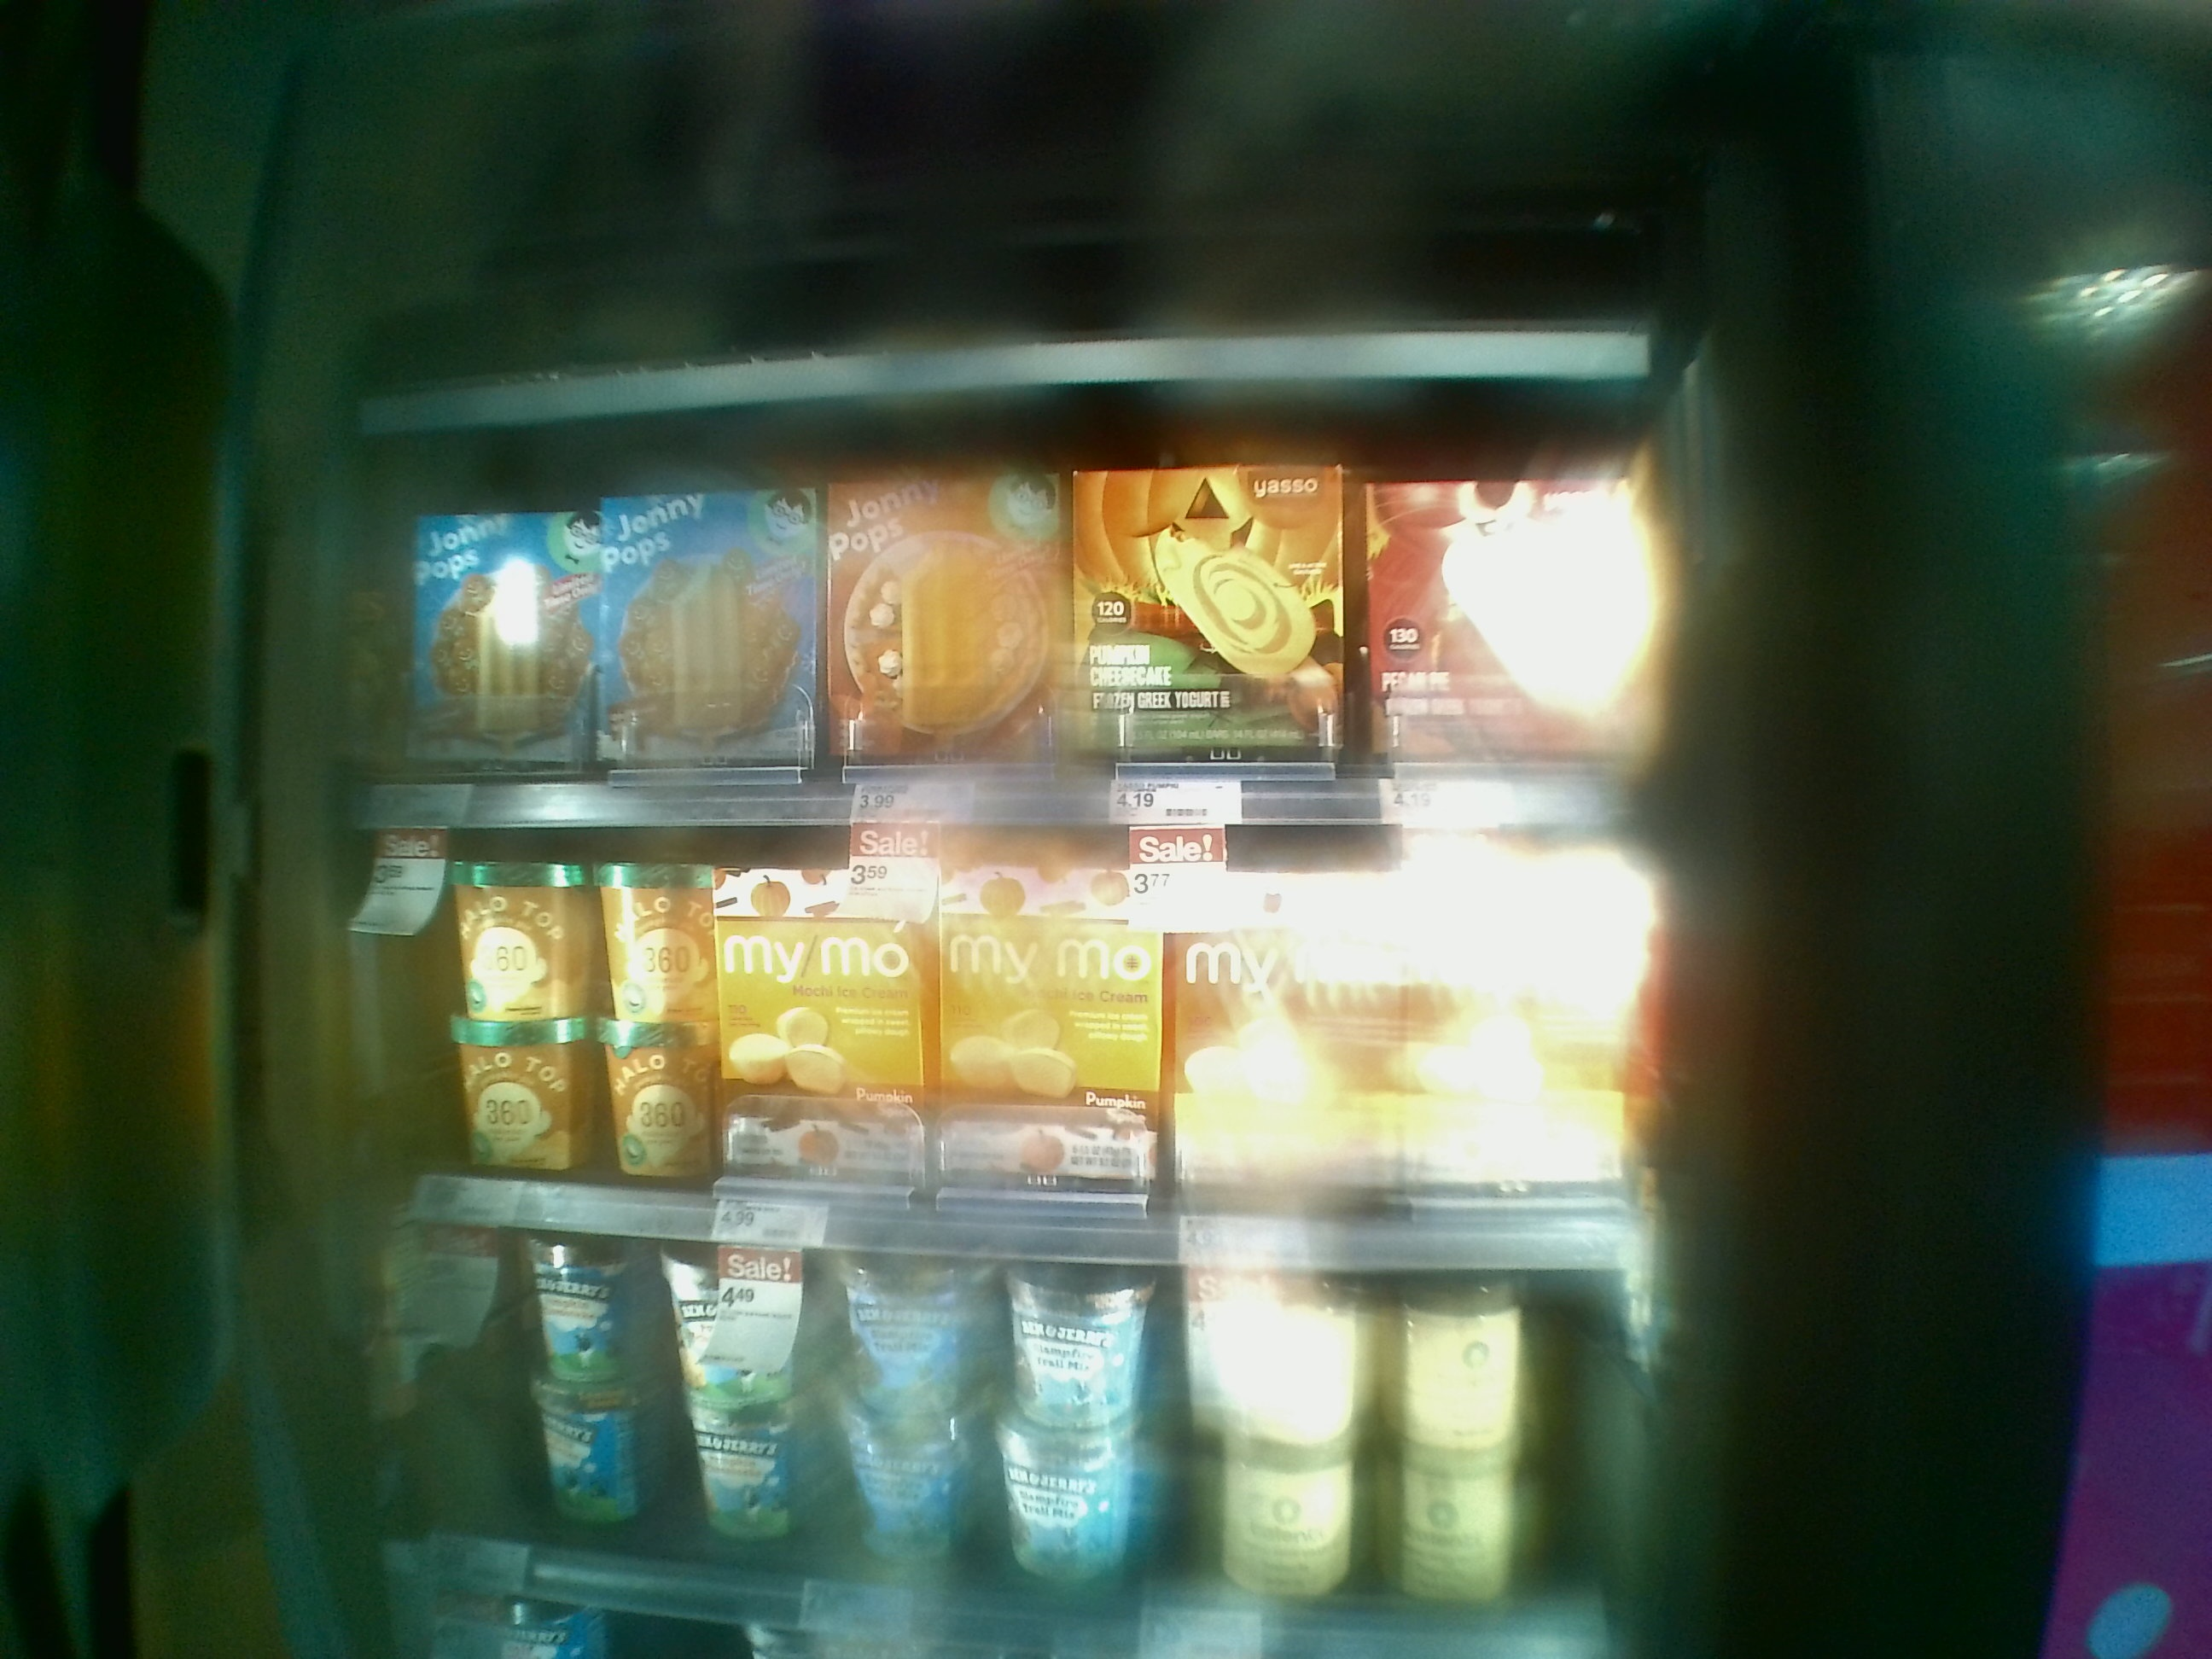shelf: (317, 796, 1667, 1270), (334, 376, 1672, 835)
